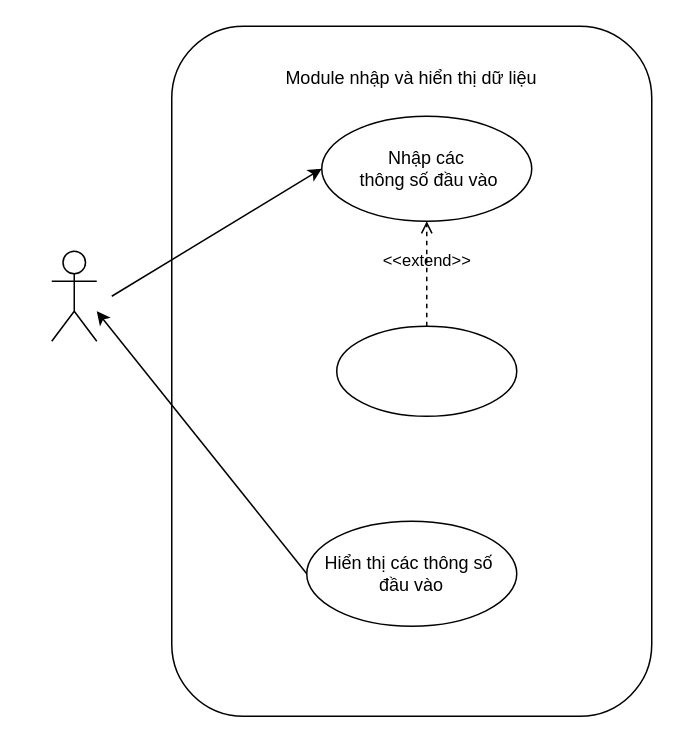
Some shapes in this 678 by 743 pixel diagram are drawn without their labels. The centre of each missing label's shape, as x and y in pixels:
"Chỉnh sửa/ Xoá các thông số đã nhập" goes at point 426,370.
"Người dùng" goes at point 73,295.
